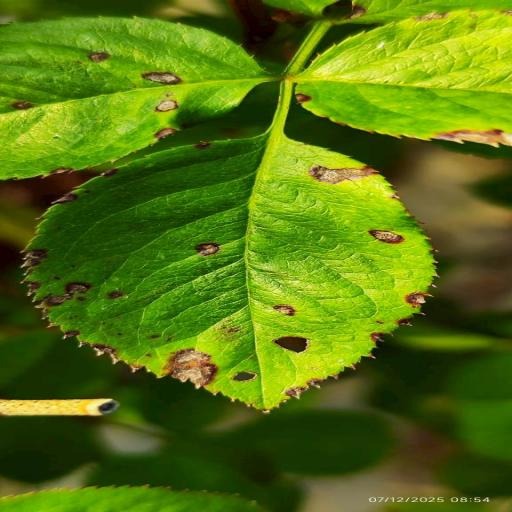black_spot: (28, 130, 433, 409), (0, 18, 273, 178), (293, 8, 511, 146)
